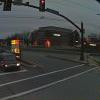Traffic light: (32, 2, 54, 16)
